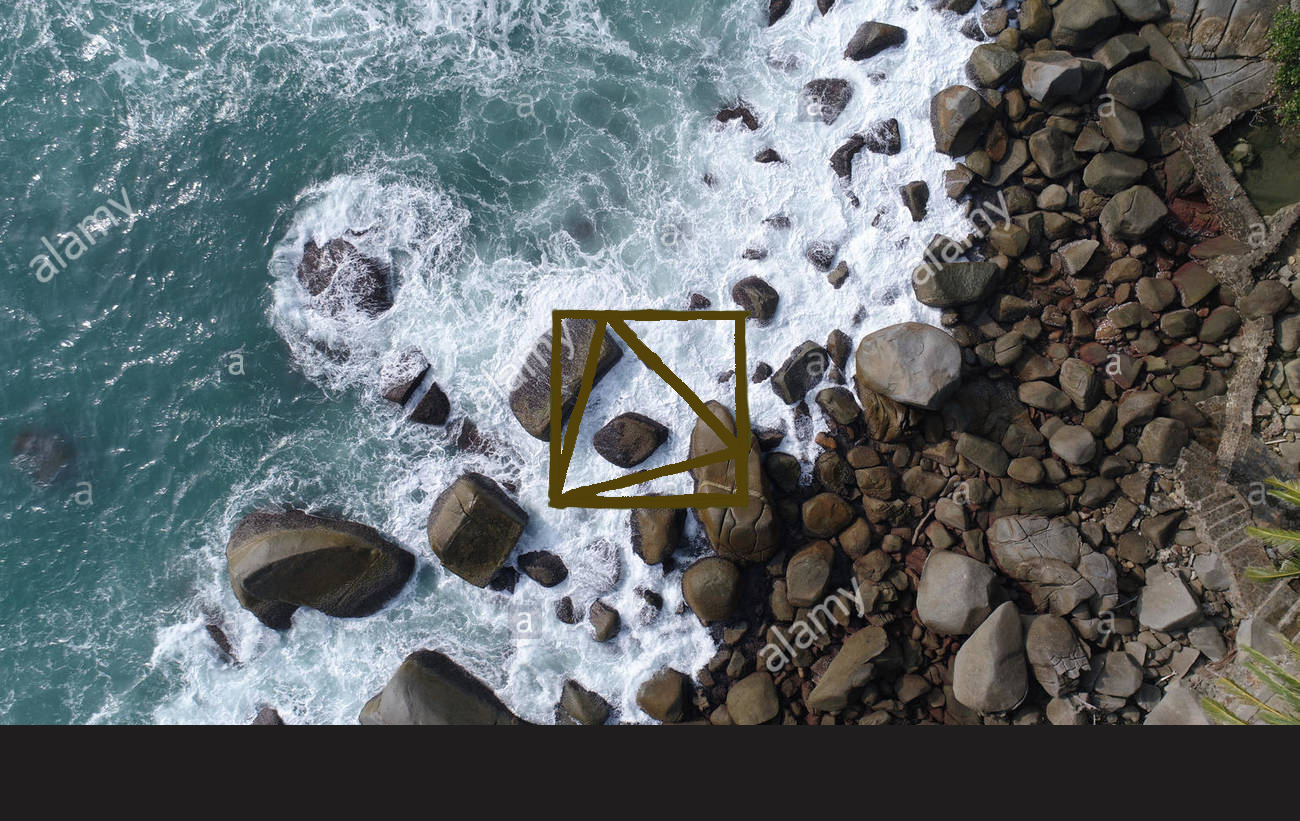marker: (549, 305, 751, 514)
